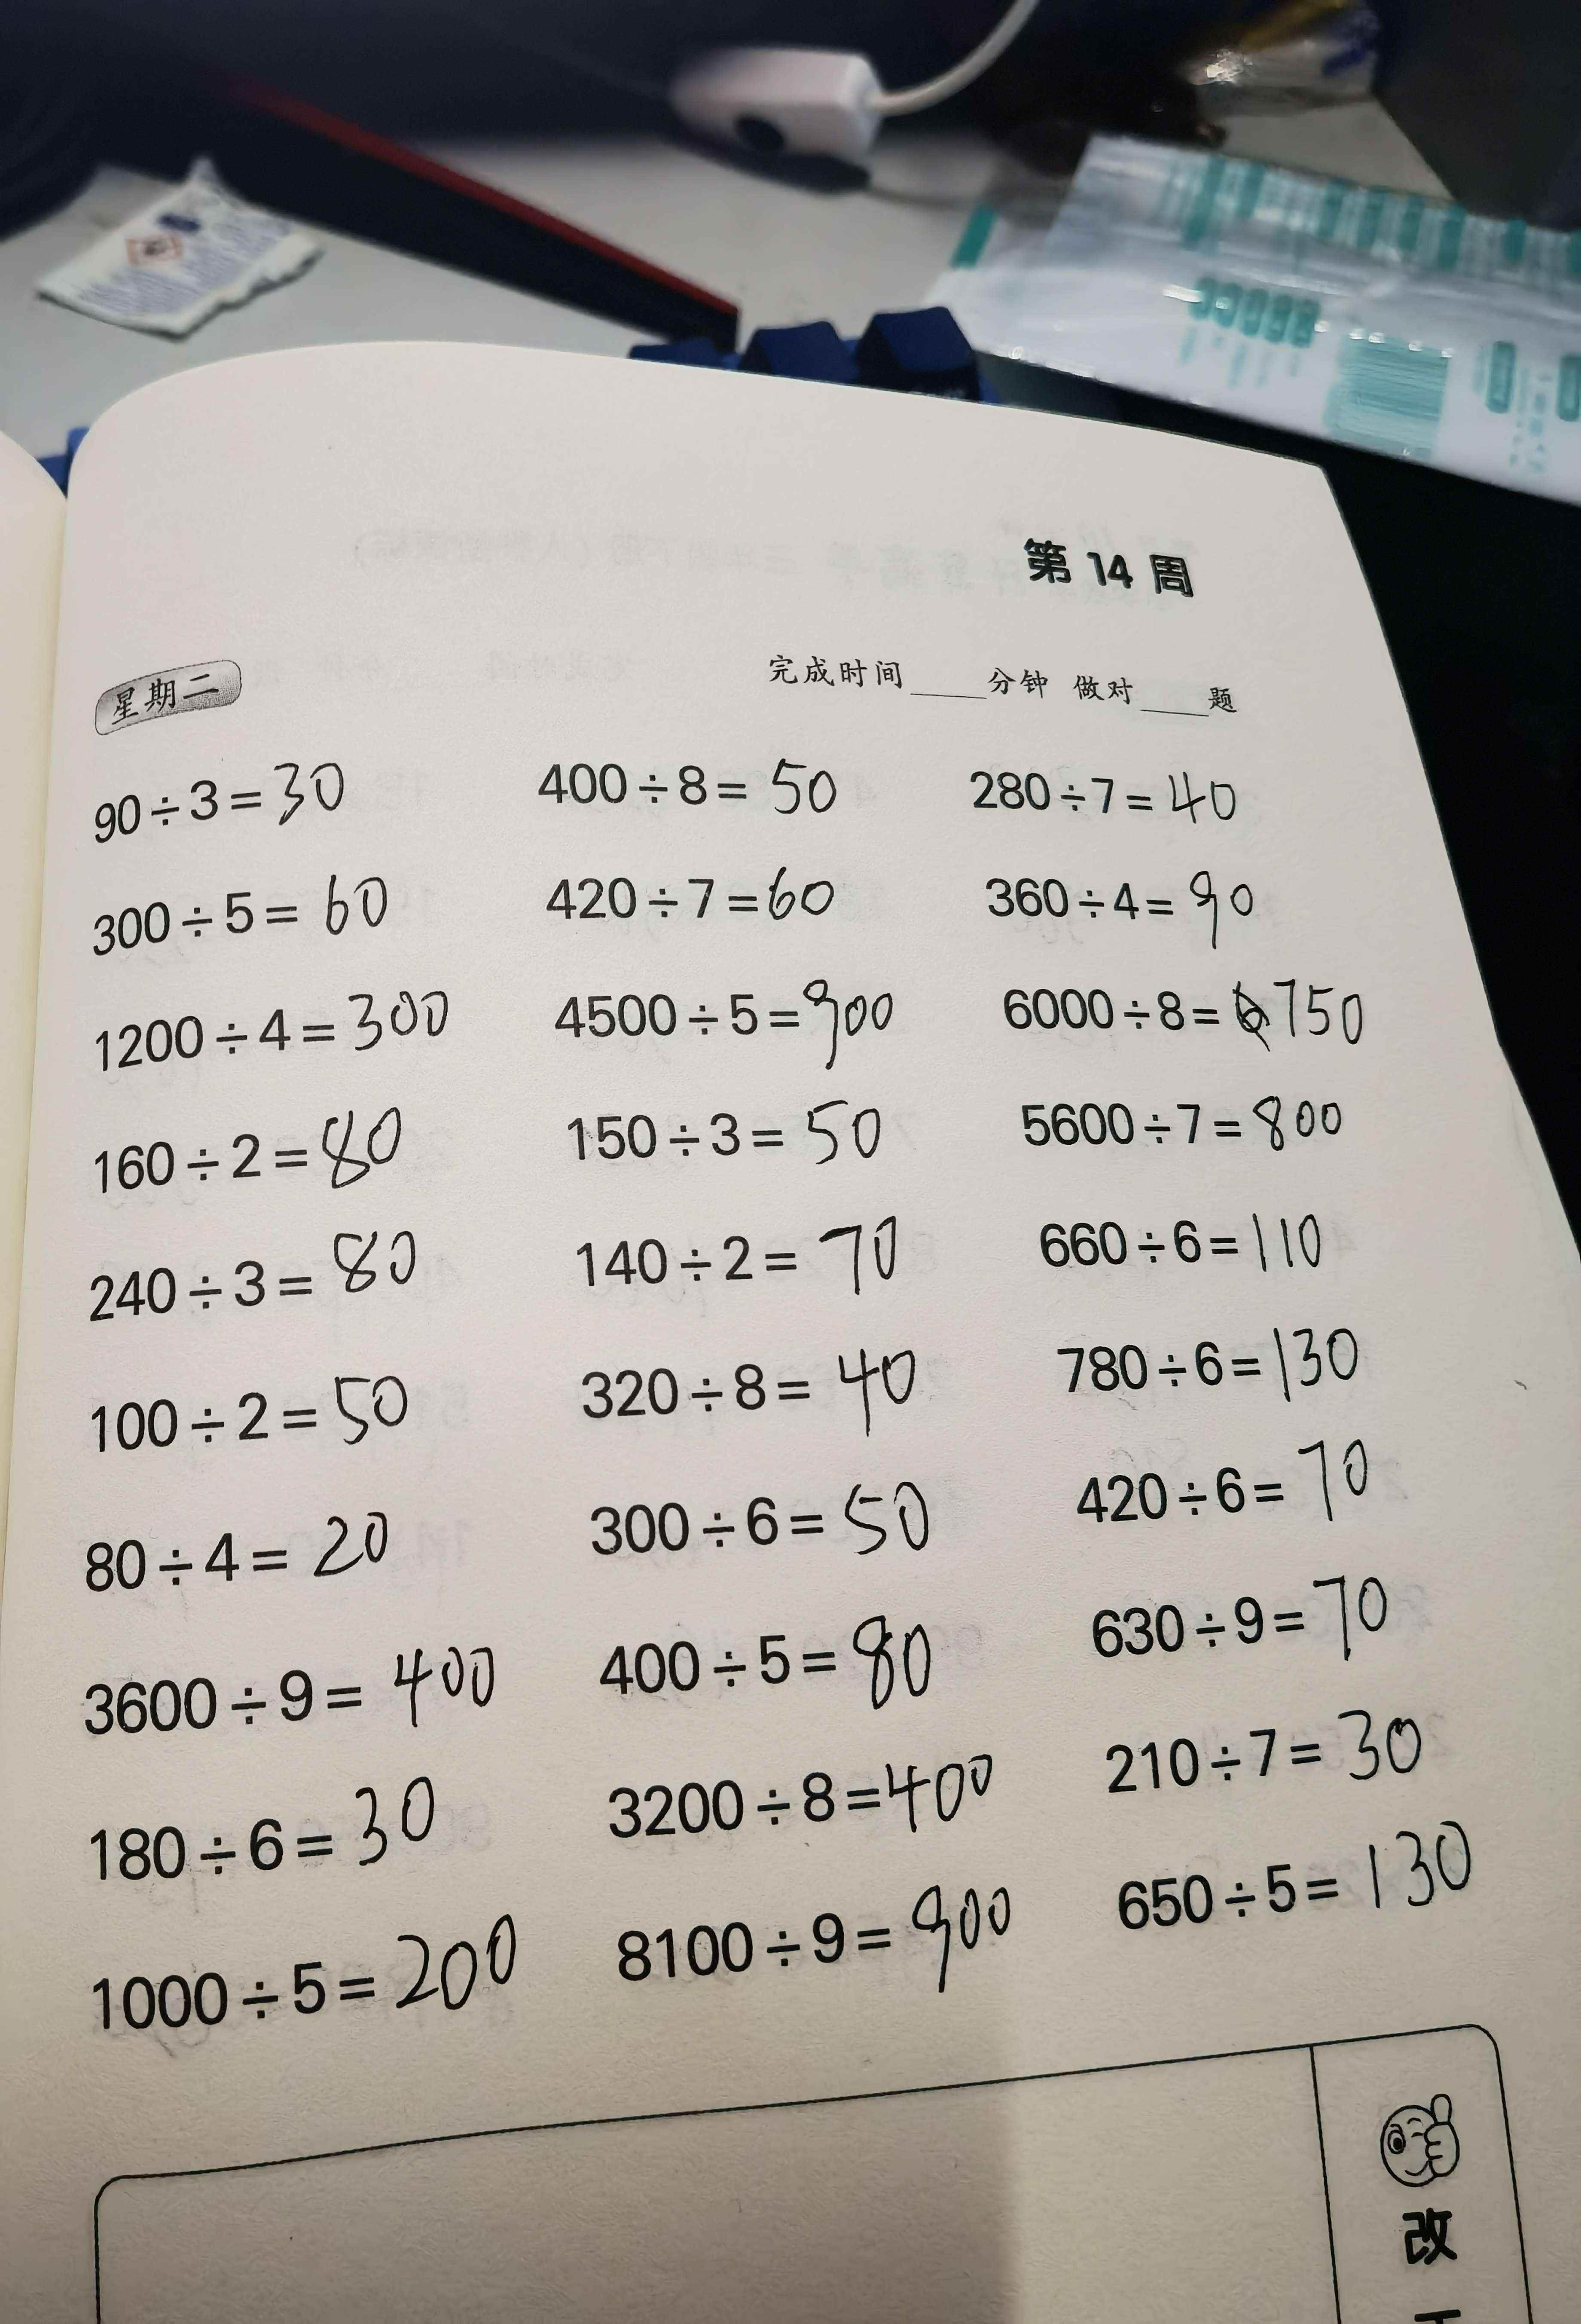equation: (67, 1908, 563, 2059), (612, 1858, 1036, 2017), (42, 1625, 519, 1743), (496, 1193, 932, 1309), (53, 967, 482, 1083), (558, 1602, 981, 1719), (41, 1355, 443, 1477), (1094, 1818, 1498, 1938), (549, 1458, 958, 1576), (524, 1747, 1008, 1846), (53, 1763, 464, 1874), (993, 955, 1380, 1071), (1083, 1692, 1477, 1805), (533, 1341, 969, 1438), (46, 1218, 445, 1323), (49, 865, 438, 972), (517, 967, 914, 1071), (55, 1098, 441, 1203), (464, 734, 880, 828), (993, 1076, 1410, 1168), (531, 1073, 925, 1170), (1008, 1186, 1410, 1279), (1032, 1306, 1429, 1399), (44, 1502, 413, 1602), (1075, 1565, 1440, 1664), (956, 743, 1263, 842), (969, 852, 1290, 944), (1032, 1447, 1387, 1521), (69, 764, 376, 843), (512, 868, 854, 939)
